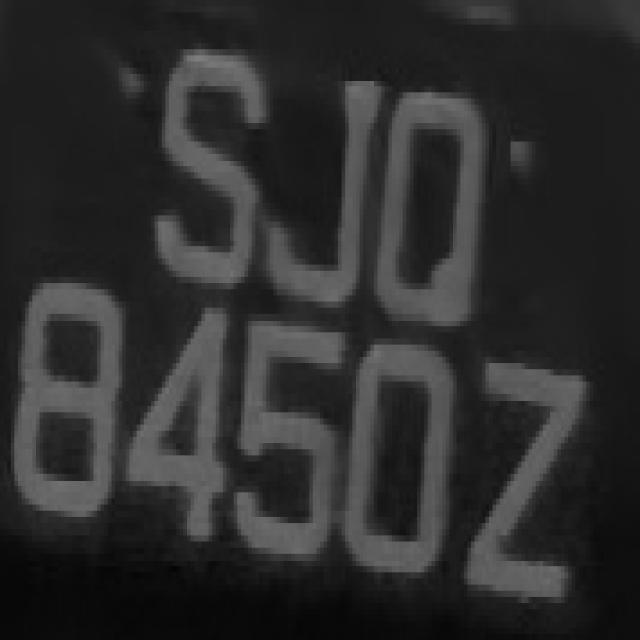0: (345, 302, 460, 590)
4: (140, 271, 241, 566)
5: (241, 277, 345, 585)
8: (8, 246, 130, 542)
J: (270, 43, 381, 302)
Q: (381, 43, 503, 351)
S: (136, 12, 262, 308)
Z: (464, 320, 590, 609)
